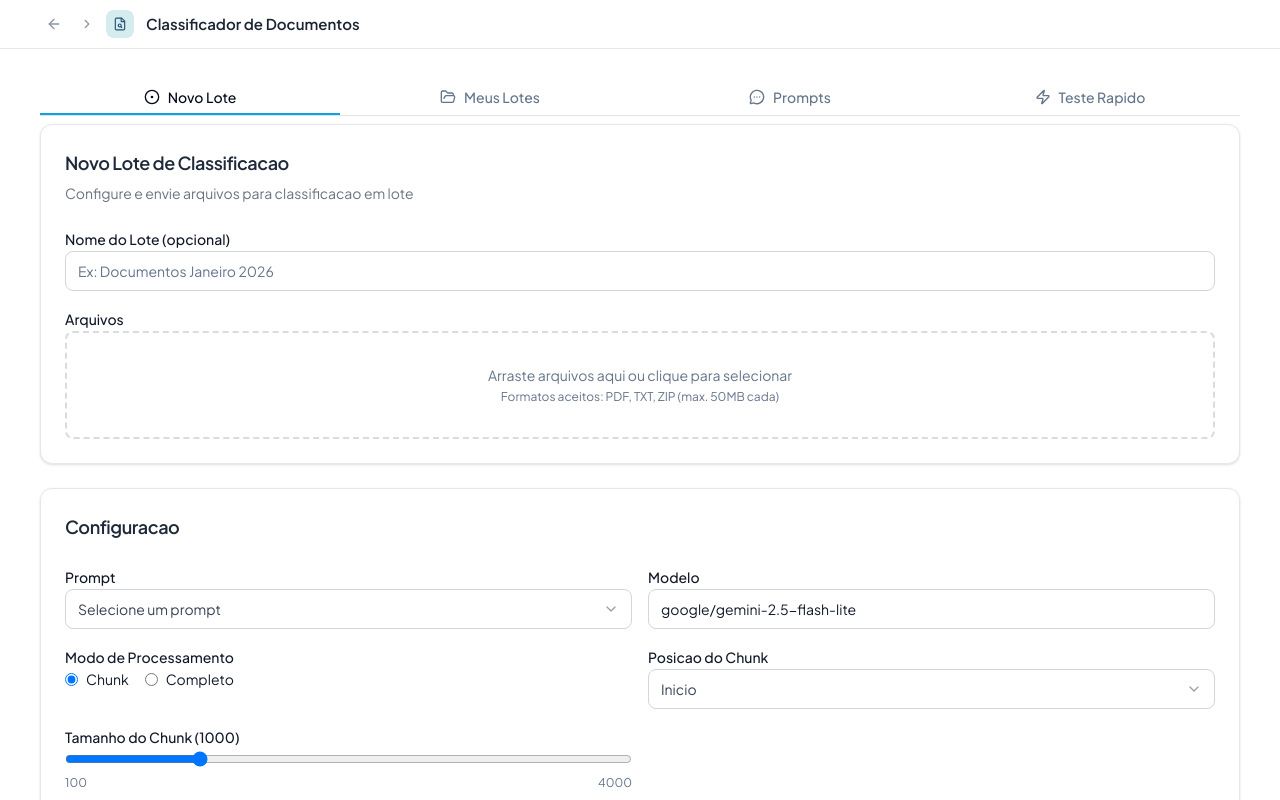
ClassificadorPage › deve mostrar aba Meus Lotes quando clicada
Click the tab "Meus Lotes".
click(490, 98)  # box [340,81,640,115]
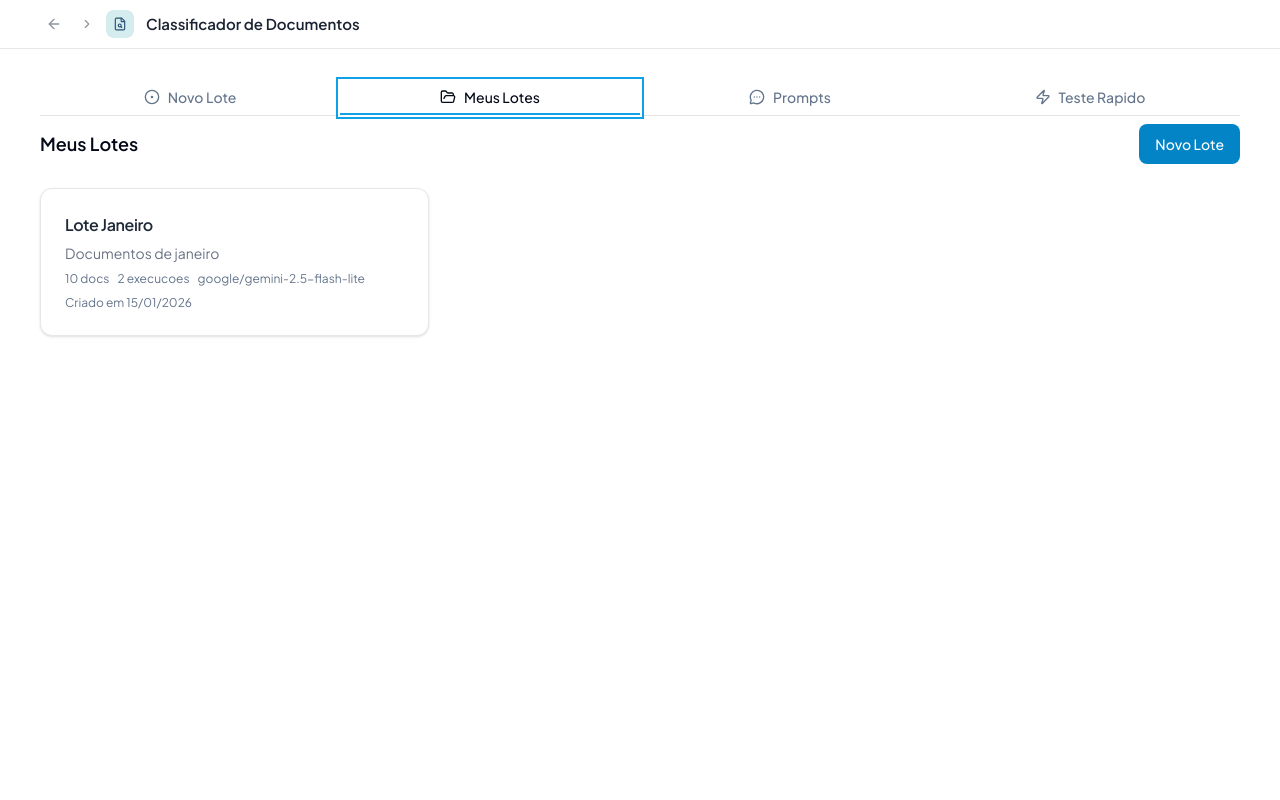
Result: the heading "Meus Lotes" is shown at [40,130,138,158]
Result: the button "Novo Lote" is shown at [1139,124,1240,164]
